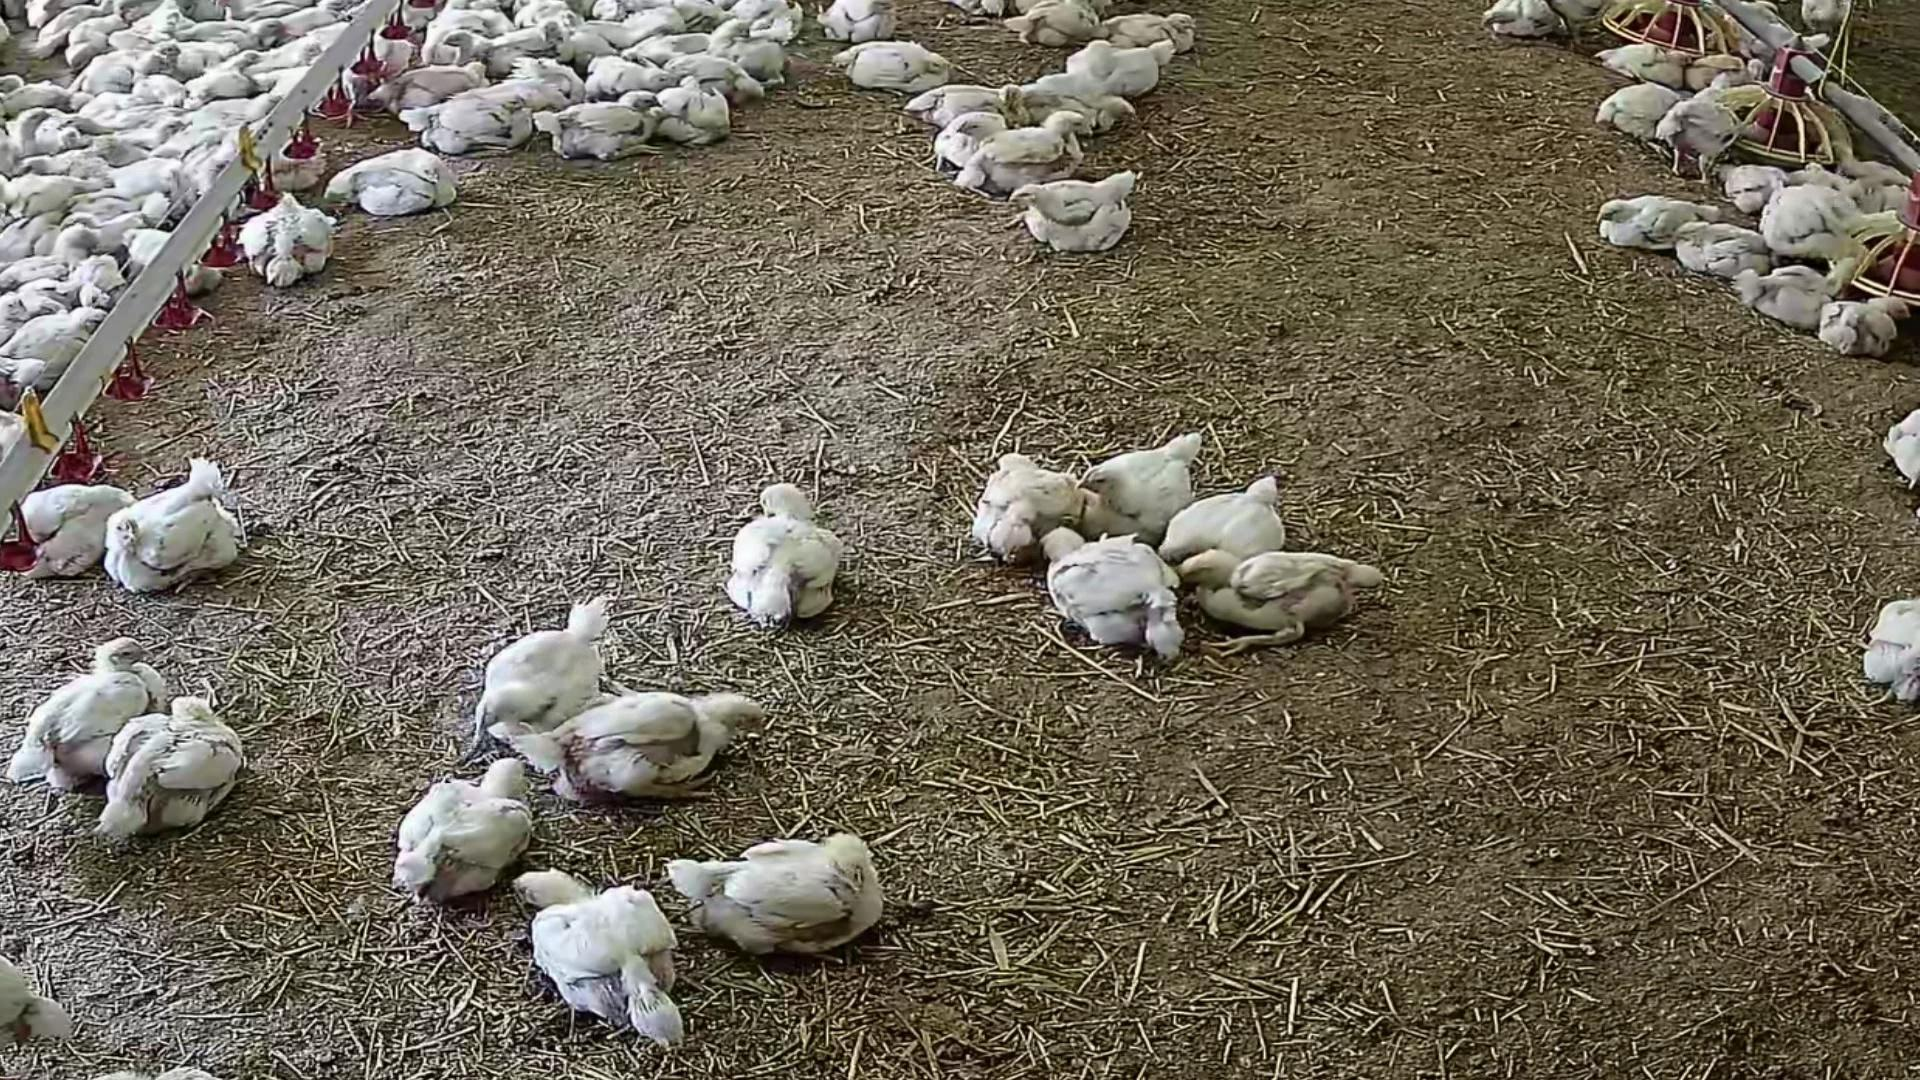poussin: (637, 827, 901, 964), (504, 857, 676, 1050), (531, 680, 769, 798), (94, 688, 253, 857), (1167, 541, 1386, 659), (459, 585, 609, 754), (397, 741, 531, 916), (1030, 516, 1179, 671), (13, 634, 156, 794), (719, 468, 853, 629), (100, 467, 255, 591), (1069, 422, 1207, 554), (994, 175, 1184, 257), (1139, 476, 1311, 556), (1826, 585, 1920, 720), (975, 442, 1100, 538), (1762, 181, 1908, 260), (316, 150, 481, 216), (237, 193, 347, 291), (971, 116, 1106, 193), (1746, 248, 1857, 328), (546, 92, 665, 160), (1023, 69, 1139, 135), (1590, 183, 1722, 240), (409, 95, 537, 153), (1669, 74, 1742, 174), (12, 311, 112, 381), (829, 37, 948, 95), (1667, 216, 1767, 284), (1822, 284, 1907, 356), (622, 3, 737, 55), (1857, 406, 1920, 500), (1592, 75, 1680, 140), (585, 49, 680, 108), (1101, 9, 1208, 59), (653, 83, 732, 149), (187, 51, 274, 111), (913, 82, 1026, 125), (666, 53, 766, 102), (1822, 136, 1911, 189), (37, 0, 119, 55), (380, 62, 495, 100), (1602, 36, 1687, 86), (1466, 0, 1572, 40), (1007, 1, 1097, 46), (62, 8, 135, 63), (814, 0, 920, 37), (444, 32, 543, 70), (533, 15, 603, 66), (105, 157, 187, 199), (1698, 46, 1771, 94), (196, 12, 287, 47), (1, 212, 59, 264), (4, 265, 82, 303), (1720, 158, 1783, 204), (1, 71, 69, 111), (945, 111, 1004, 156), (66, 214, 142, 245), (12, 108, 54, 165), (7, 175, 94, 202), (127, 117, 191, 149), (153, 38, 194, 84), (719, 20, 761, 57), (61, 113, 120, 136), (0, 293, 32, 327), (282, 41, 324, 62)
